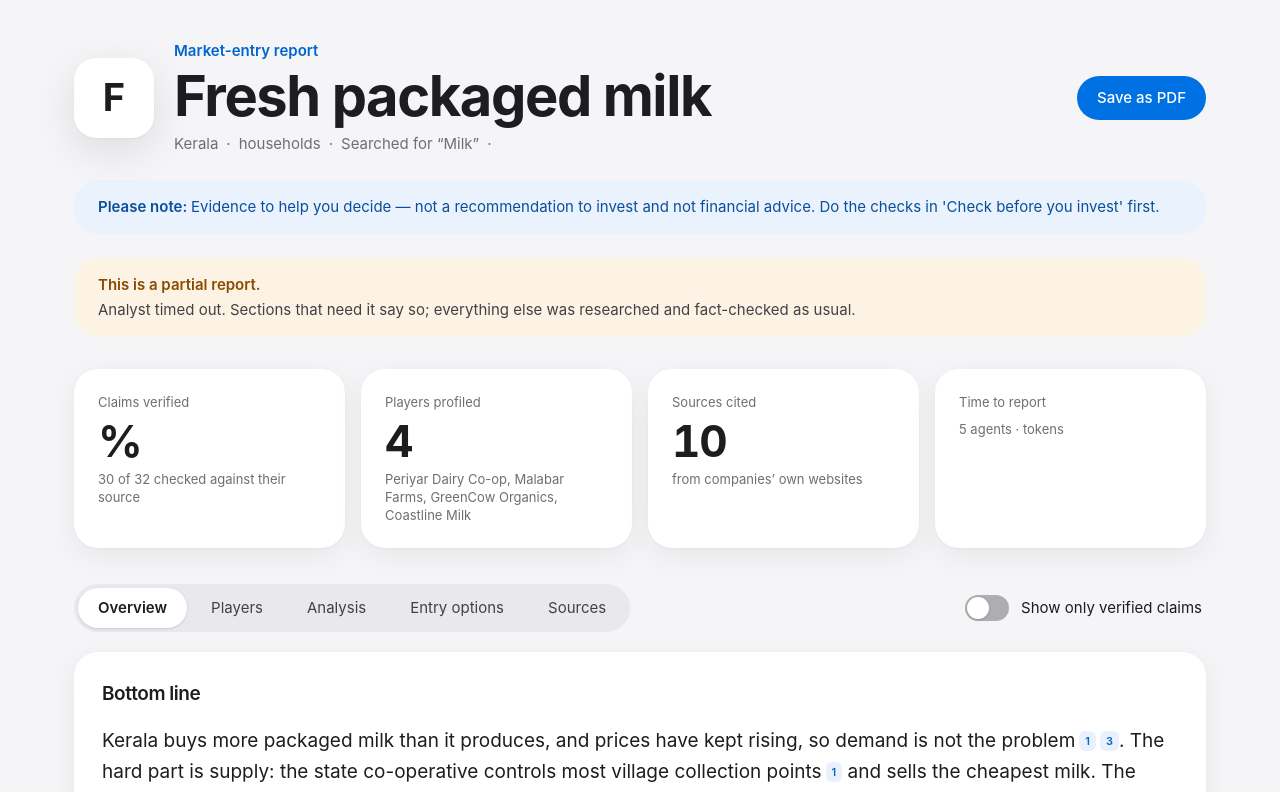
Test case: ReportDashboard — market-entry report (M13) › a market report whose analysis failed says so instead of showing empty forces
Step 1. Click the tab "Analysis" → (337, 608), box [287,588,386,628]
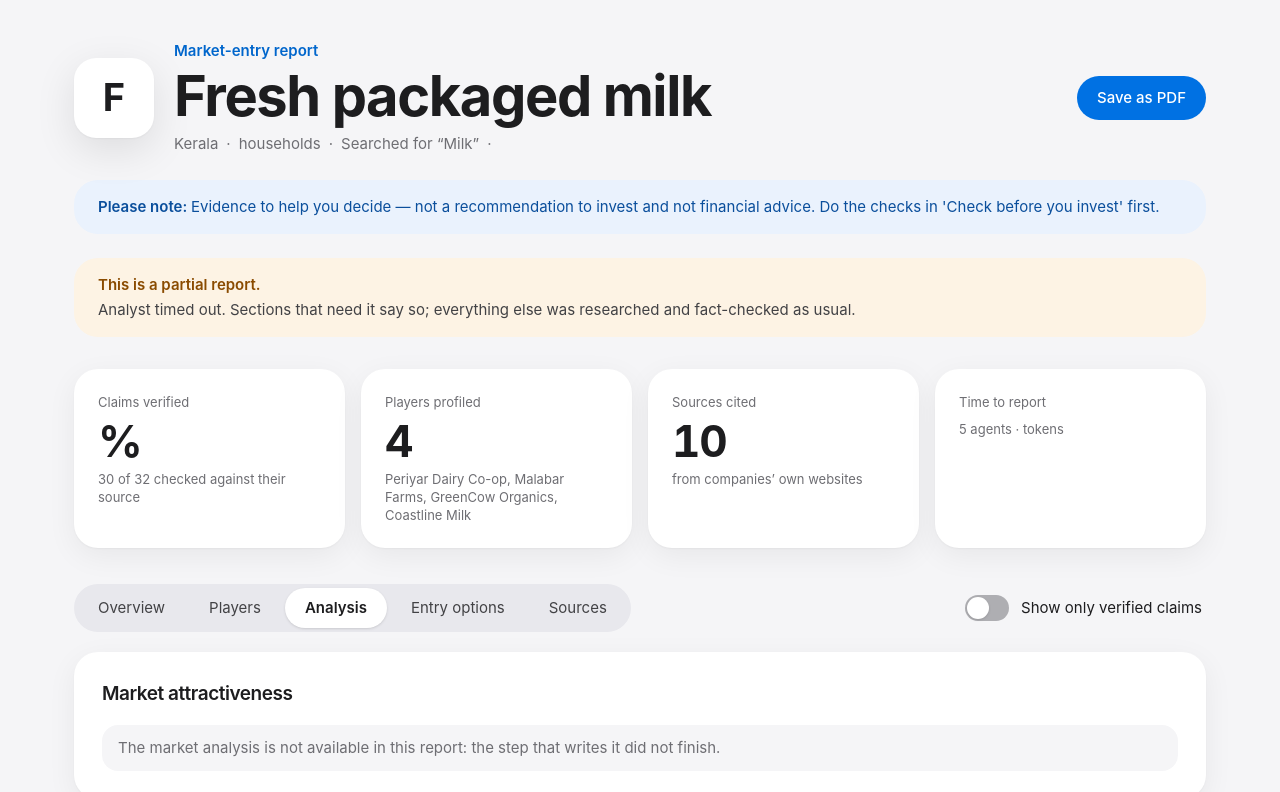
Now the text "The market analysis is not available" is shown, box [102,725,1178,771]
Step 2. Click the tab "Entry options" → (458, 608), box [391,588,525,628]
(page scrolled)
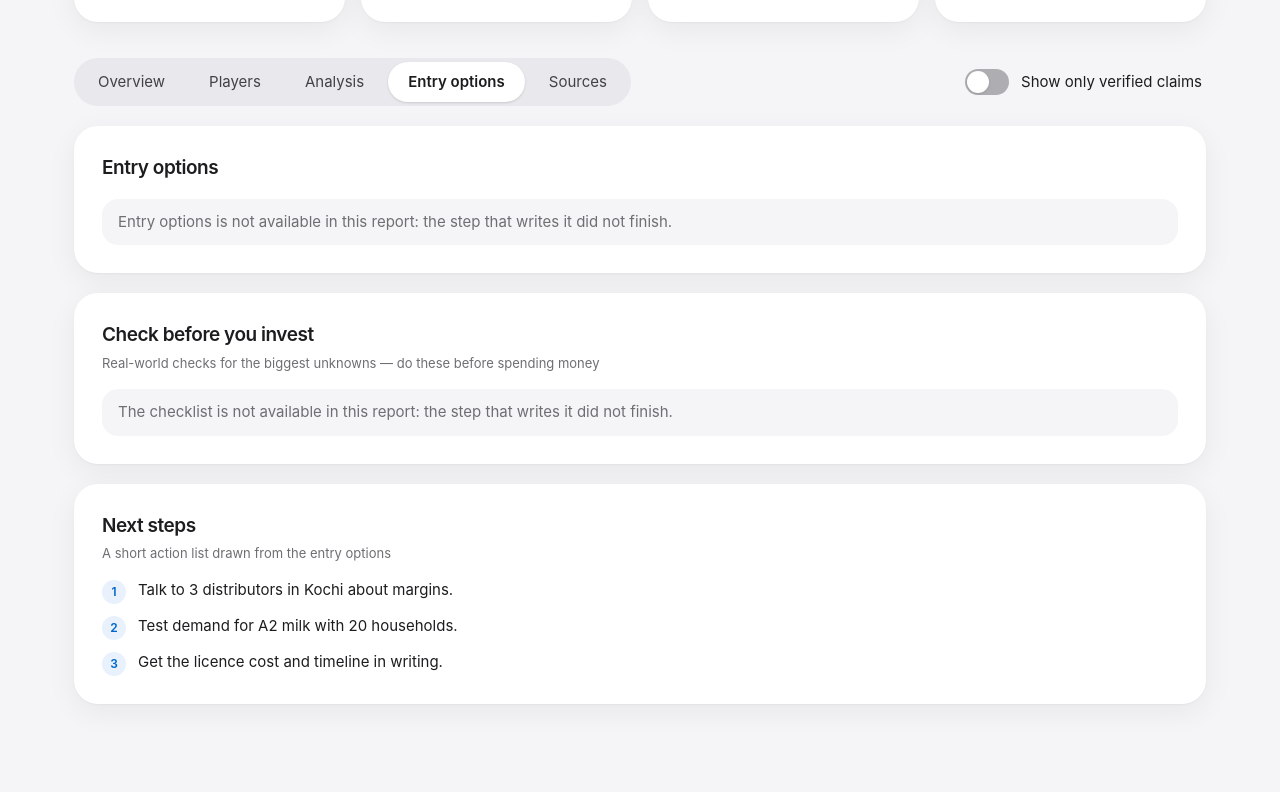
Now the text "The checklist is not available" is shown, box [102,389,1178,436]
